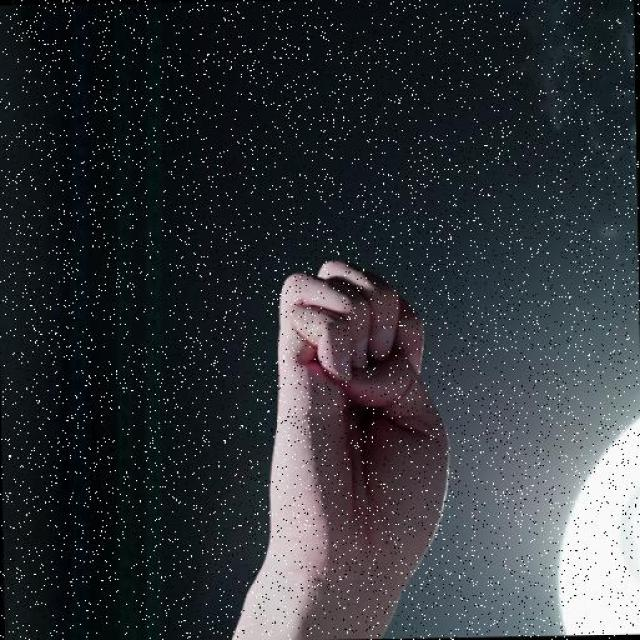E: (259, 251, 456, 579)
